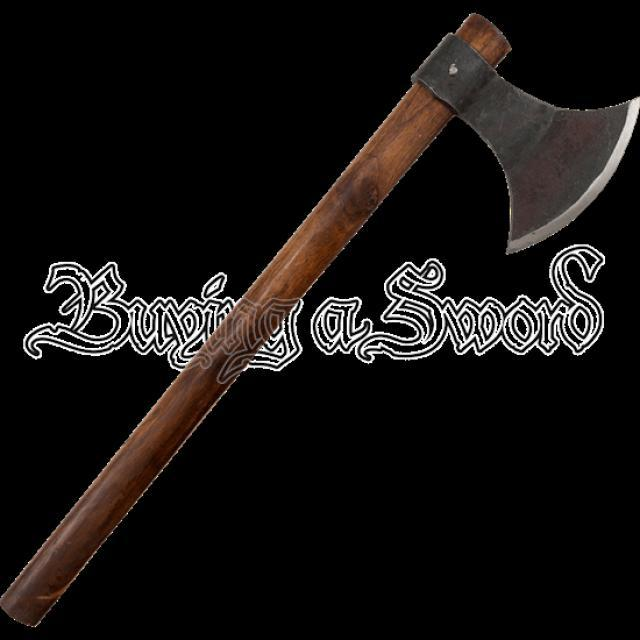axe: (1, 1, 640, 628)
